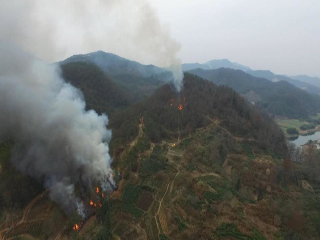smoke: (1, 16, 187, 220)
